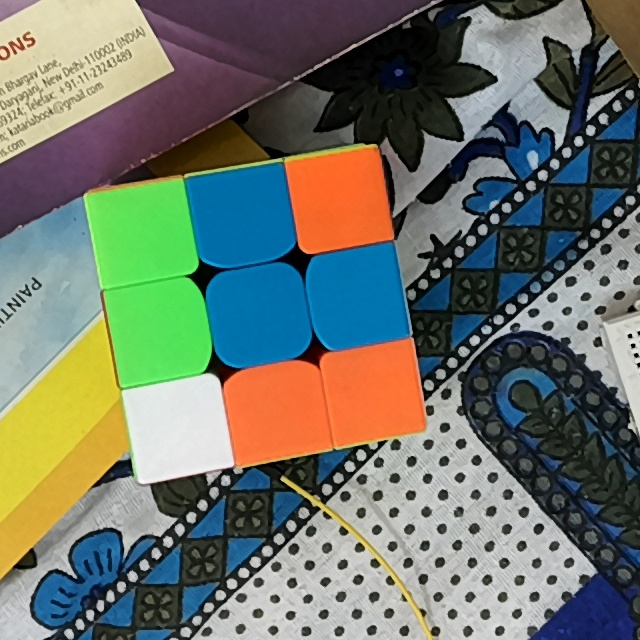tile: (197, 177, 280, 255), (115, 294, 198, 369), (319, 256, 394, 337), (99, 194, 182, 267), (139, 389, 219, 464), (237, 375, 318, 449), (218, 278, 299, 351), (336, 354, 412, 431), (303, 161, 378, 238)
